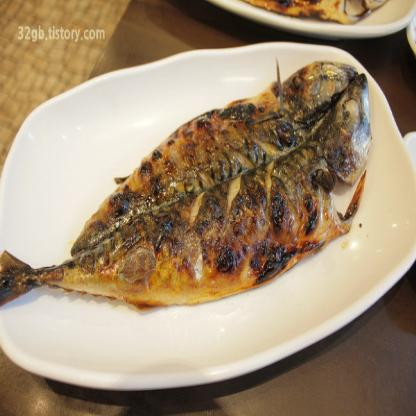Peixe: (0, 68, 384, 337)
